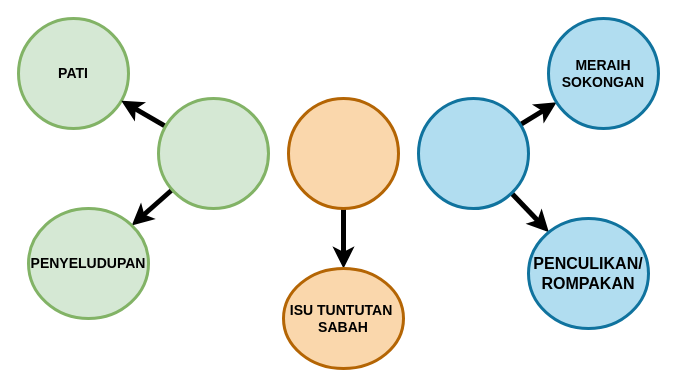
The diagram is 677 pixels wide and 387 high, and some of its shapes have lost their labels. The shapes that lost their labels are listed below. From the top down, each one's centre as x and y in pixels, then its label:
At pixel 213 153: "JENAYAH RENTAS SEMPADAN".
At pixel 343 153: "PRO-CLAIM".
At pixel 473 153: "MNLF/ ASG/ KFRG".
